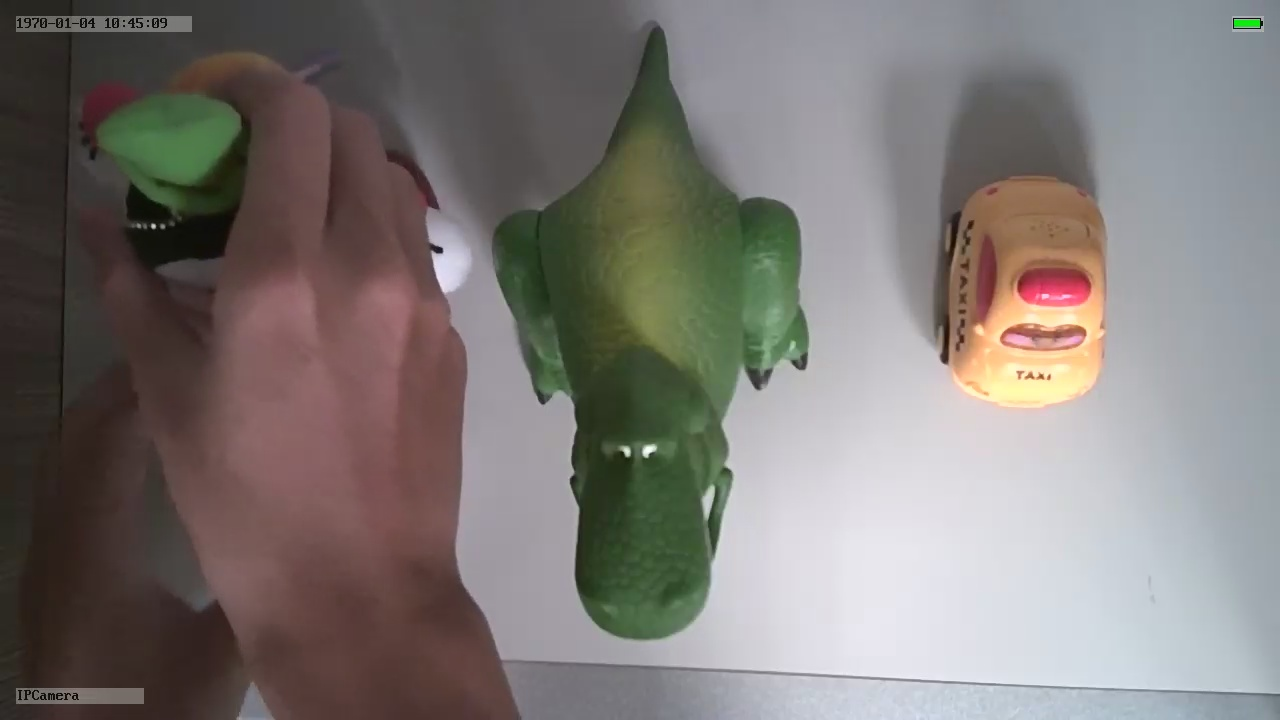car: (931, 169, 1112, 414)
rex: (491, 92, 812, 645)
